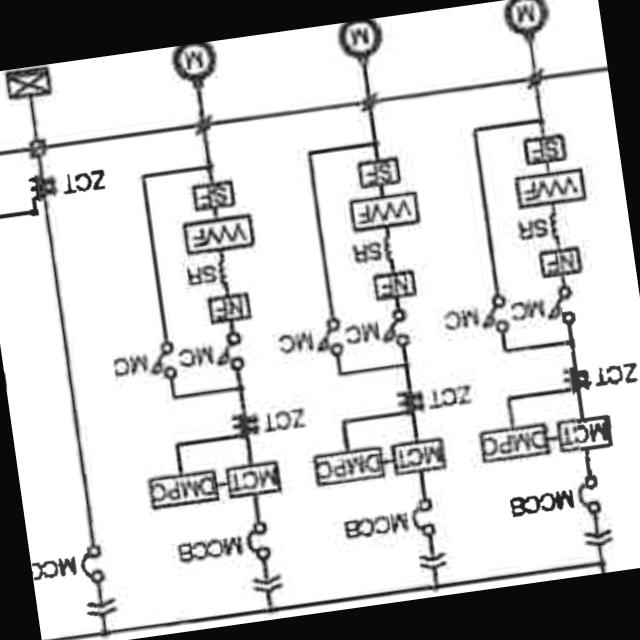MC: (542, 284, 579, 331), (146, 338, 182, 386), (212, 329, 248, 376), (378, 306, 414, 352), (312, 316, 344, 362), (478, 295, 512, 336)
MCCB: (243, 521, 276, 564), (409, 497, 439, 542), (575, 474, 604, 520), (78, 545, 108, 587)
SR: (545, 210, 564, 247), (379, 234, 396, 266), (216, 259, 232, 289)
ZCT: (560, 364, 594, 396), (394, 388, 427, 417), (28, 172, 58, 202), (230, 412, 262, 439)
